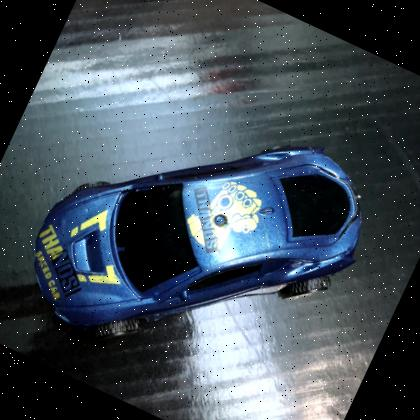Car: (32, 147, 362, 338)
